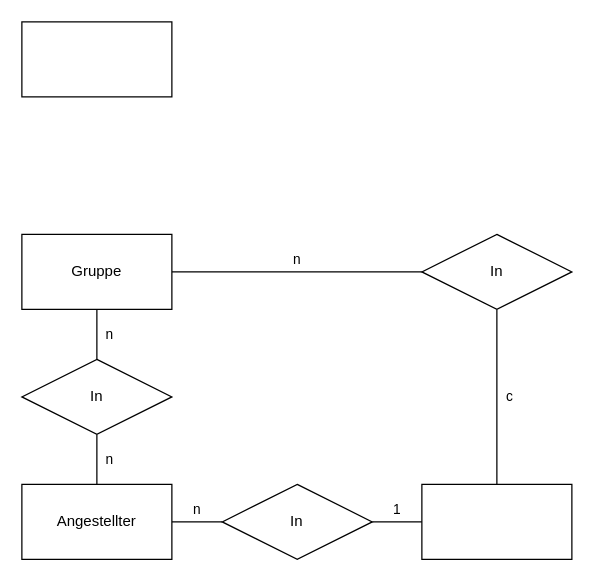
Some shapes in this 594 by 581 pixel diagram are drawn without their labels. Here are the shapes that lost their labels. From the top down, the box of each, then its label:
(21, 21, 172, 97): Übergeordnet
(421, 483, 572, 559): Abteilung
